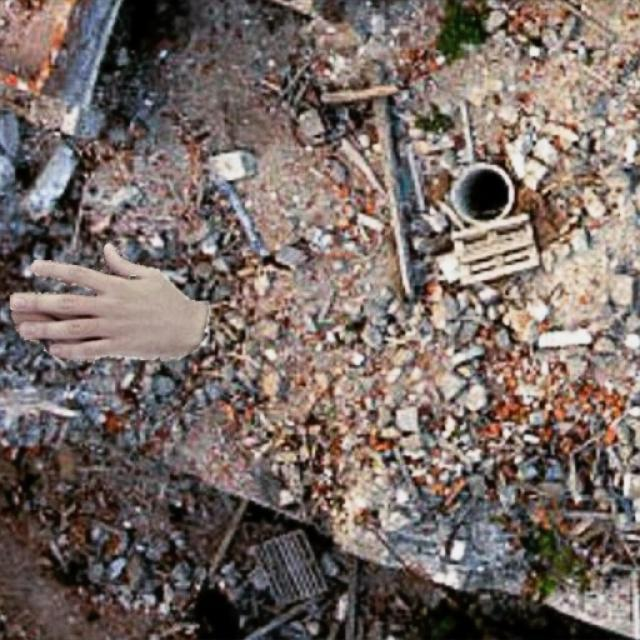Person in Rubble: (10, 242, 209, 362)
